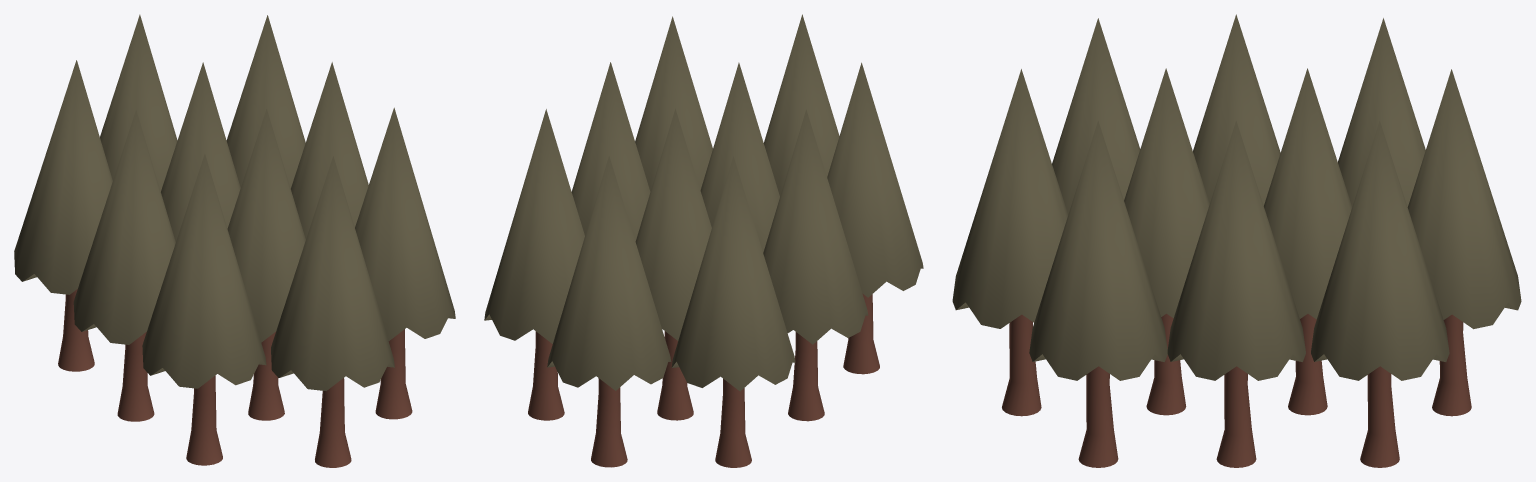
The model's file is Super_Lowpoly_Tree_Cluster.fbx.
The picture shows the model from 3 angles, left to right: view 1: azimuth 30°, elevation 25°; view 2: azimuth 150°, elevation 25°; view 3: azimuth 270°, elevation 25°; orthographic projection. The views are drawn at different scales.
Visible parts, largest first — view 1: Super_Lowpoly_Tree_Cluster; view 2: Super_Lowpoly_Tree_Cluster; view 3: Super_Lowpoly_Tree_Cluster.
Boxes of the visible parts, left/top/right/bottom form: Super_Lowpoly_Tree_Cluster: left=14, top=14, right=455, bottom=467; Super_Lowpoly_Tree_Cluster: left=484, top=14, right=923, bottom=467; Super_Lowpoly_Tree_Cluster: left=952, top=14, right=1521, bottom=467.
Size of the model in its own units: 28.32 by 27.13 by 41.28.
